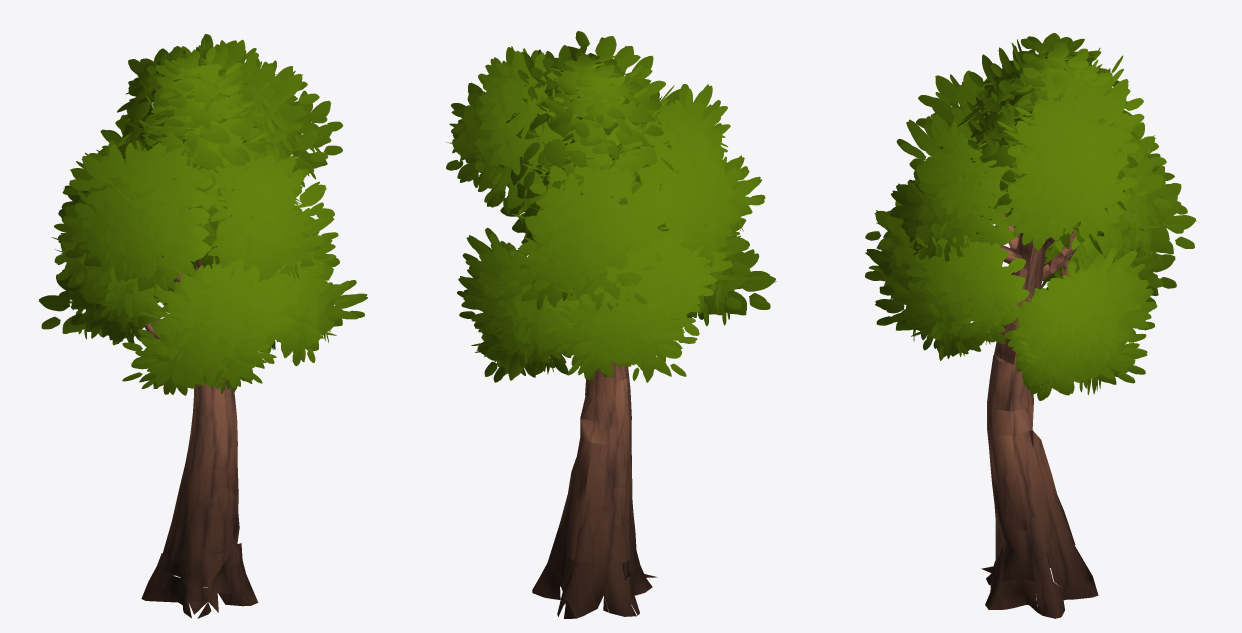
Rendered from FarTree_1.glb.
3 views of the same model, side by side, from view 1: azimuth 30°, elevation 25°; view 2: azimuth 150°, elevation 25°; view 3: azimuth 270°, elevation 25° (orthographic). The views are drawn at different scales.
Parts seen in each view (by area): view 1: CommonTree_1, CommonTree_1_bark; view 2: CommonTree_1, CommonTree_1_bark; view 3: CommonTree_1, CommonTree_1_bark.
Boxes of the visible parts, x1,y1,x2,y2 form: CommonTree_1: (38, 34, 367, 395); CommonTree_1_bark: (141, 246, 258, 618); CommonTree_1: (446, 31, 776, 382); CommonTree_1_bark: (532, 99, 657, 618); CommonTree_1: (865, 33, 1196, 400); CommonTree_1_bark: (981, 214, 1098, 618).
Bounding box in the file's own units: 4.31 × 7.3 × 4.58.
2 materials, 2 textured.
